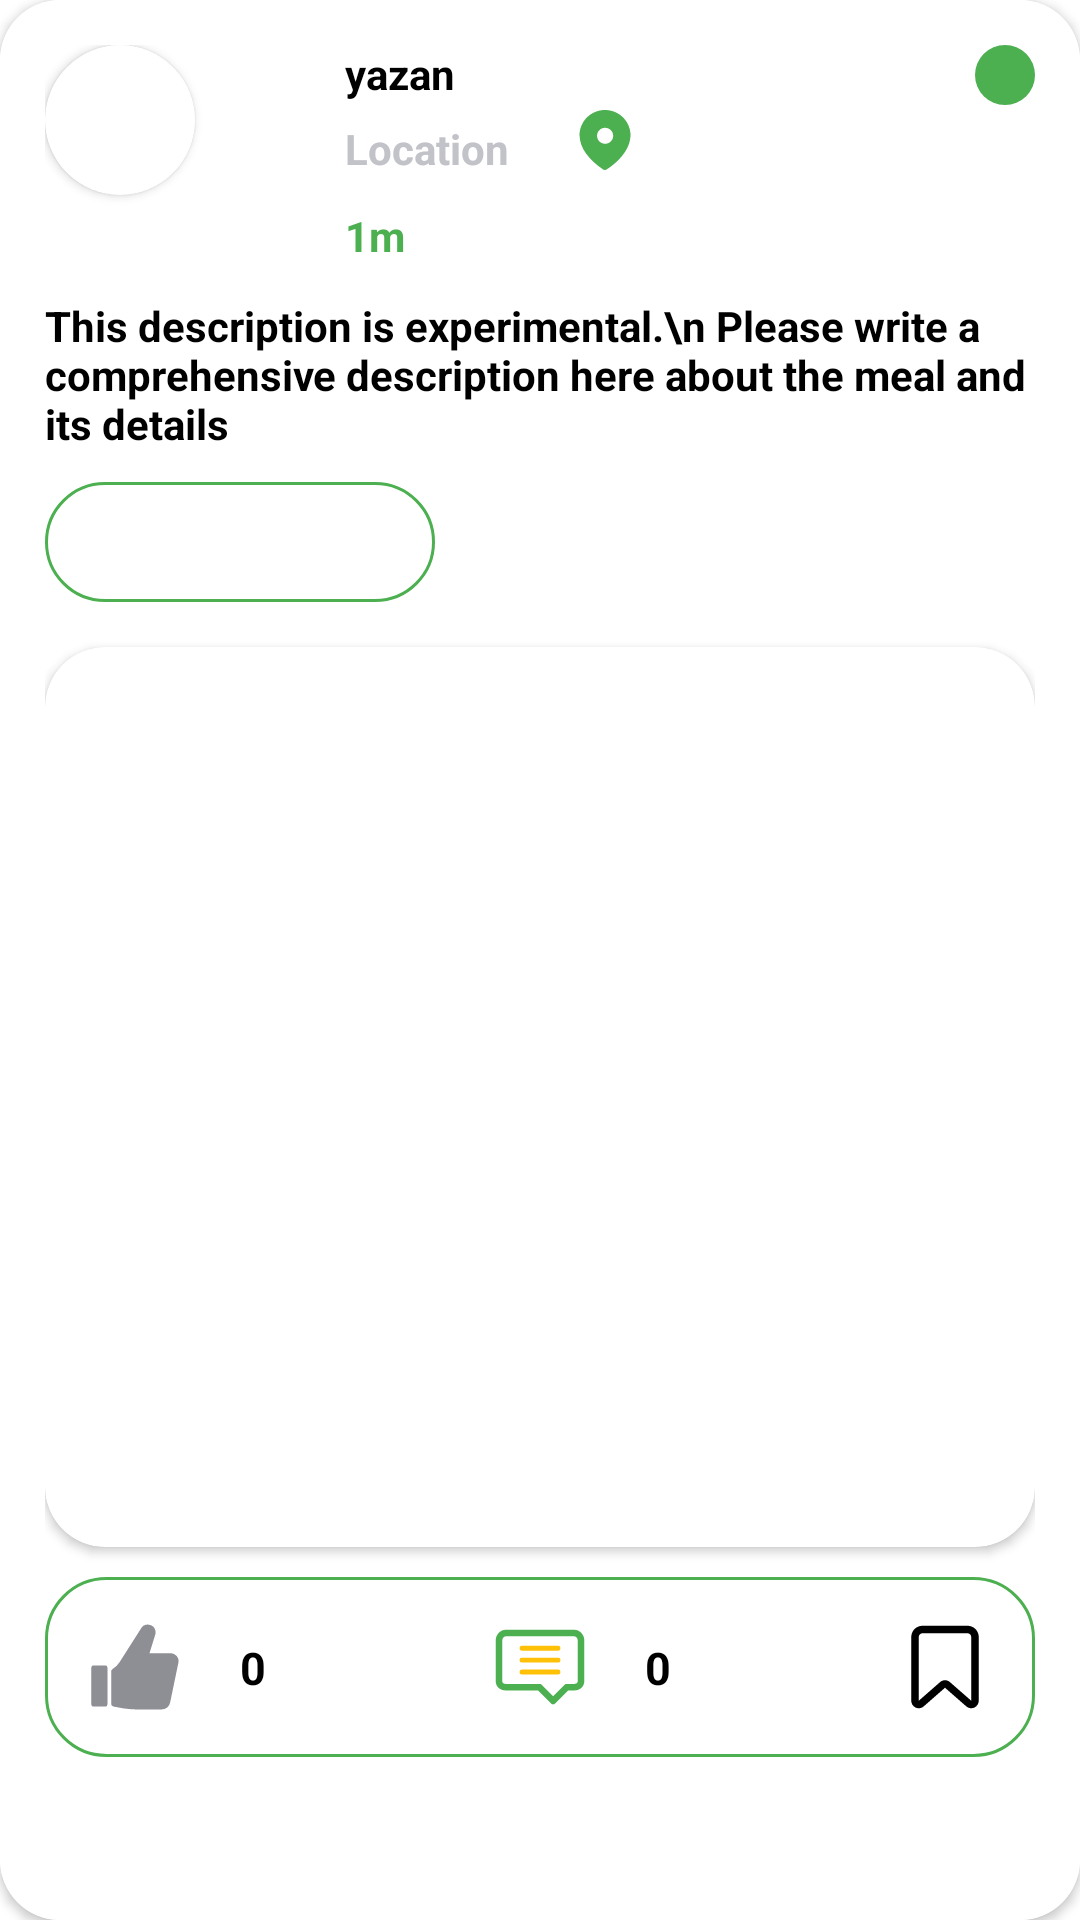

Screen size 1080 x 1920. Icon name, then its center in pixels as (x=x, y=y):
comments sh: (x=540, y=1667)
like sh: (x=135, y=1667)
save sh: (x=945, y=1667)
